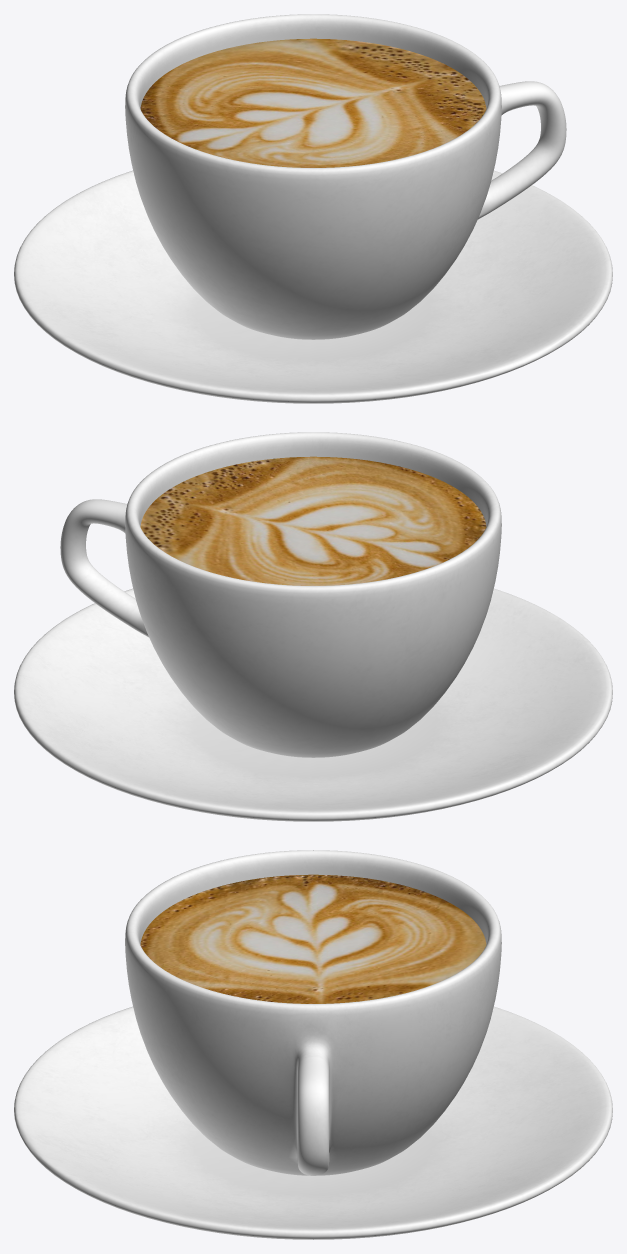
The model's file is coffee.glb.
3 views of the same model, one above another, from view 1: azimuth 30°, elevation 25°; view 2: azimuth 150°, elevation 25°; view 3: azimuth 270°, elevation 25° (orthographic).
Parts seen in each view (by area): view 1: Coffee_Cup; view 2: Coffee_Cup; view 3: Coffee_Cup.
Part boxes in pixels (x1=…): Coffee_Cup: x1=14, y1=14, x2=612, y2=403; Coffee_Cup: x1=14, y1=432, x2=612, y2=821; Coffee_Cup: x1=14, y1=850, x2=612, y2=1239.
Size of the model in its own units: 0.1985 by 0.085 by 0.1985.
Materials: 1 (1 with a texture image).
